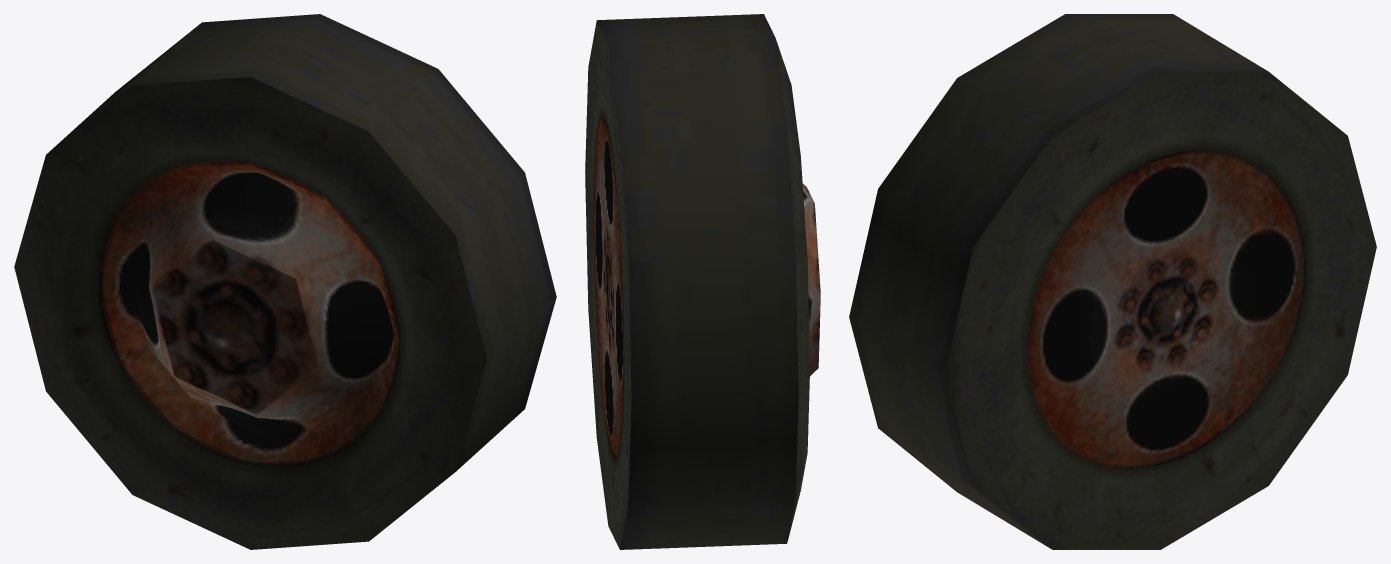
File: rueda_del_der_mate.obj
3 renders of one model, left to right at view 1: azimuth 30°, elevation 25°; view 2: azimuth 150°, elevation 25°; view 3: azimuth 270°, elevation 25°, orthographic.
Visible parts, largest first — view 1: mesh_5_; view 2: mesh_5_; view 3: mesh_5_.
Boxes of the visible parts, x1,y1,x2,y2 form: mesh_5_: (14,14,556,549); mesh_5_: (585,14,820,549); mesh_5_: (849,14,1376,549).
Size of the model in its own units: 5.24 by 6.29 by 6.29.
